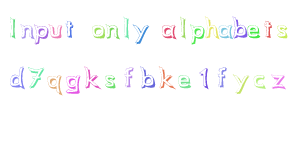1: (198, 65, 210, 89)
7: (28, 66, 44, 89)
I: (6, 15, 23, 39)
a: (217, 23, 233, 39), (161, 23, 176, 39)
b: (233, 15, 247, 39), (140, 66, 155, 88)
c: (253, 74, 266, 89)
d: (9, 67, 25, 88)
e: (246, 23, 261, 39), (178, 74, 191, 89)
f: (216, 66, 228, 88), (123, 66, 134, 88)
g: (65, 74, 81, 95)
h: (205, 17, 219, 38)
k: (85, 66, 102, 90), (159, 66, 176, 89)
l: (120, 16, 131, 39), (180, 14, 186, 38)
n: (19, 23, 35, 39), (106, 23, 121, 39)
o: (91, 24, 105, 39)
p: (190, 23, 206, 44), (34, 24, 48, 45)
q: (46, 74, 63, 96)
s: (104, 74, 117, 89), (277, 24, 288, 39)
t: (64, 19, 75, 39), (264, 20, 273, 39)
u: (49, 24, 63, 38)
y: (132, 23, 150, 44), (232, 74, 250, 94)
z: (271, 74, 286, 89)
